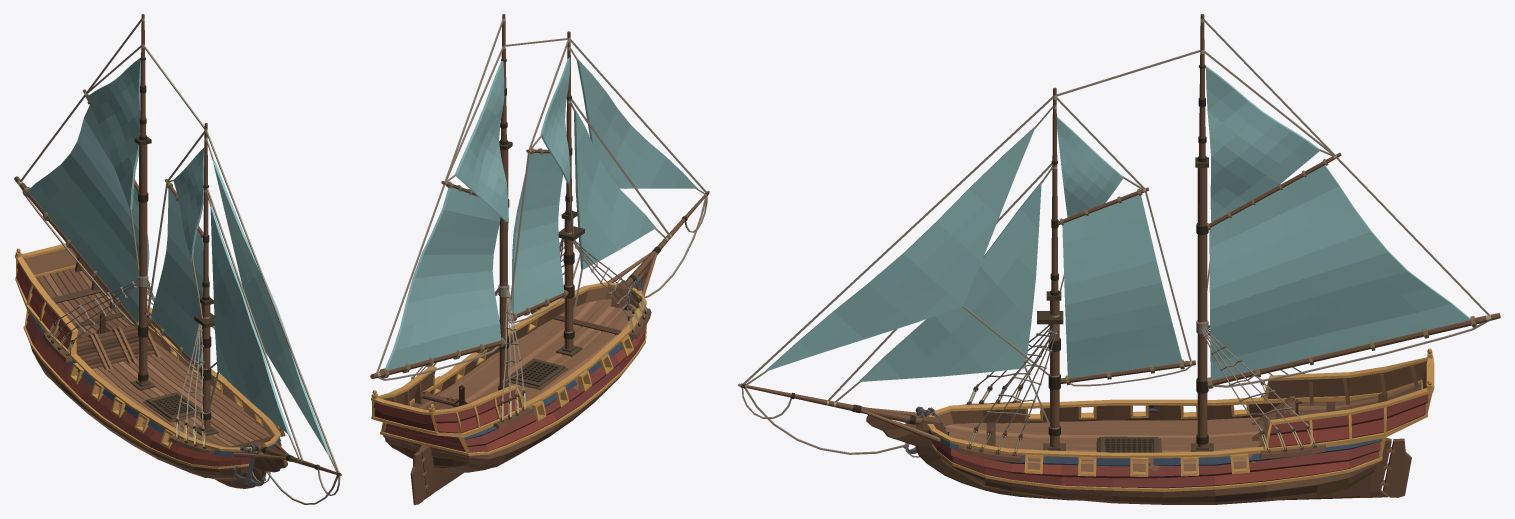
Rendered from SHIP_MEDIUM.fbx.
The picture shows the model from 3 angles, left to right: view 1: azimuth 30°, elevation 25°; view 2: azimuth 150°, elevation 25°; view 3: azimuth 270°, elevation 25°; orthographic projection. The views are drawn at different scales.
Parts seen in each view (by area): view 1: Ship_Medium, Sails; view 2: Ship_Medium, Sails; view 3: Sails, Ship_Medium.
Part boxes in pixels (<box>): Ship_Medium: <box>14,14,341,504</box>; Sails: <box>28,58,330,455</box>; Ship_Medium: <box>370,14,709,504</box>; Sails: <box>385,57,697,370</box>; Sails: <box>765,66,1470,381</box>; Ship_Medium: <box>738,14,1500,504</box>.
Bounding box in the file's own units: 7.46 × 25.42 × 36.19.
